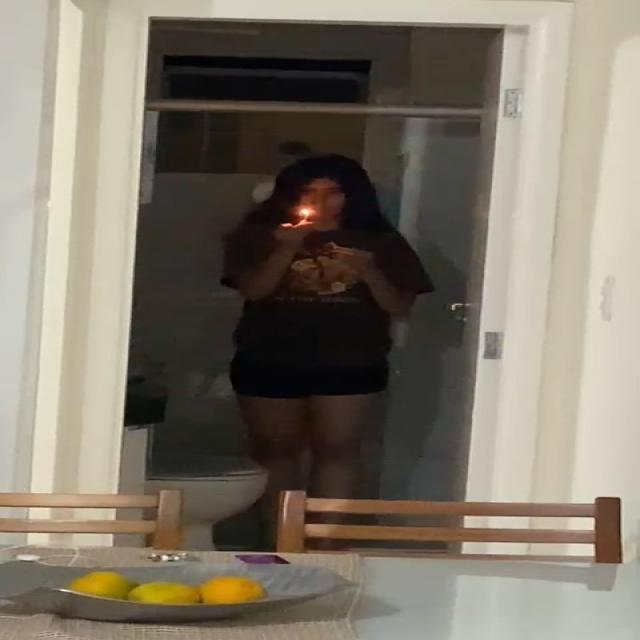fire: (298, 203, 315, 222)
